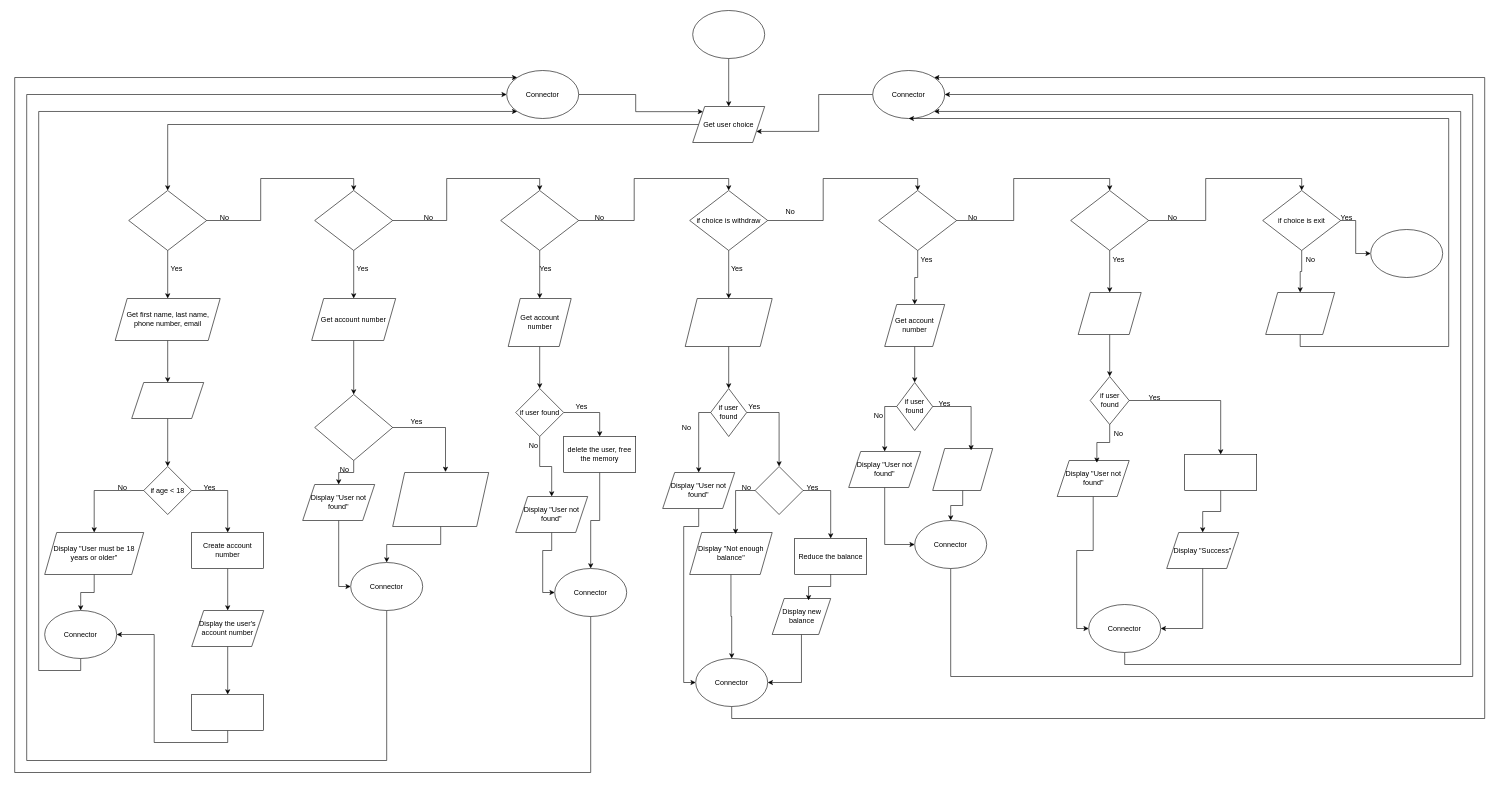
Image size: 1500x788. Some labels were removed from this diagram. The centre of each missing label's shape, as x and y in pixels:
Add the balance: [1220,472]
Create the user structure dynamically for the entered details: [227,712]
Display "Invalid Input": [1300,313]
Display the balance: [962,469]
Display the details of the found user: [440,499]
Get account number, amount: [728,322]
Get account number, money: [1109,313]
Get age: [167,400]
if account number found: [353,427]
if balance is enough: [778,490]
if choice is add user: [167,220]
if choice is check baalance: [917,220]
if choice is delete user: [539,220]
if choice is deposit: [1109,220]
if choice is search user: [353,220]
Start: [728,34]
Stop: [1406,253]
